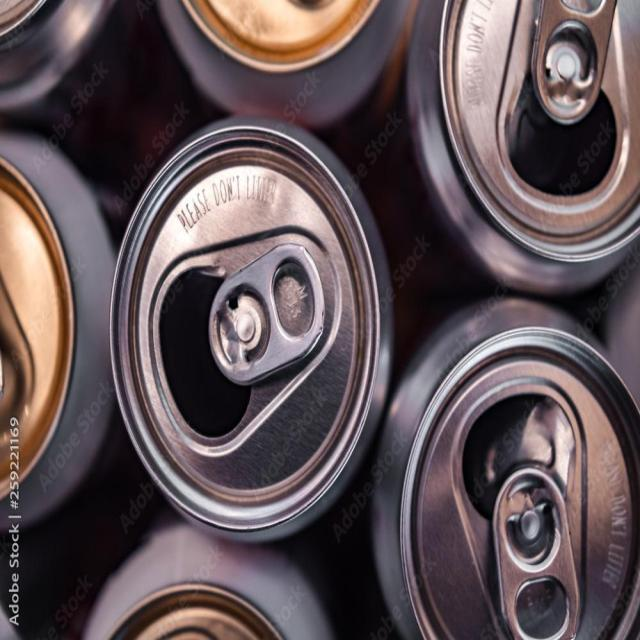can: (111, 122, 385, 538)
pop tab: (209, 235, 328, 382)
